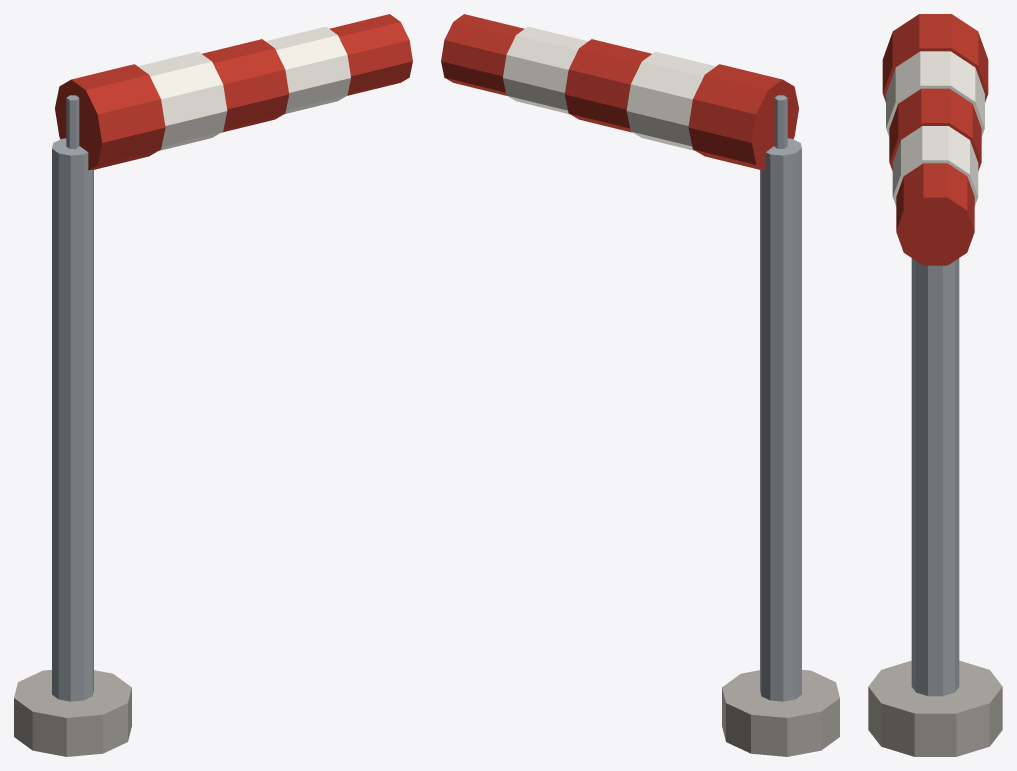
Rendered from PRP_Windsock.fbx.
The picture shows the model from 3 angles, left to right: view 1: azimuth 30°, elevation 25°; view 2: azimuth 150°, elevation 25°; view 3: azimuth 270°, elevation 25°; orthographic projection. The views are drawn at different scales.
Visible parts, largest first — view 1: PRP_Windsock__BODY; view 2: PRP_Windsock__BODY; view 3: PRP_Windsock__BODY.
Part boxes in pixels (box(x1,y1,x2,y2)): PRP_Windsock__BODY: box(14, 14, 412, 756); PRP_Windsock__BODY: box(441, 14, 839, 756); PRP_Windsock__BODY: box(868, 14, 1002, 756).
Bounding box in the file's own units: 2 × 3.31 × 0.56.
